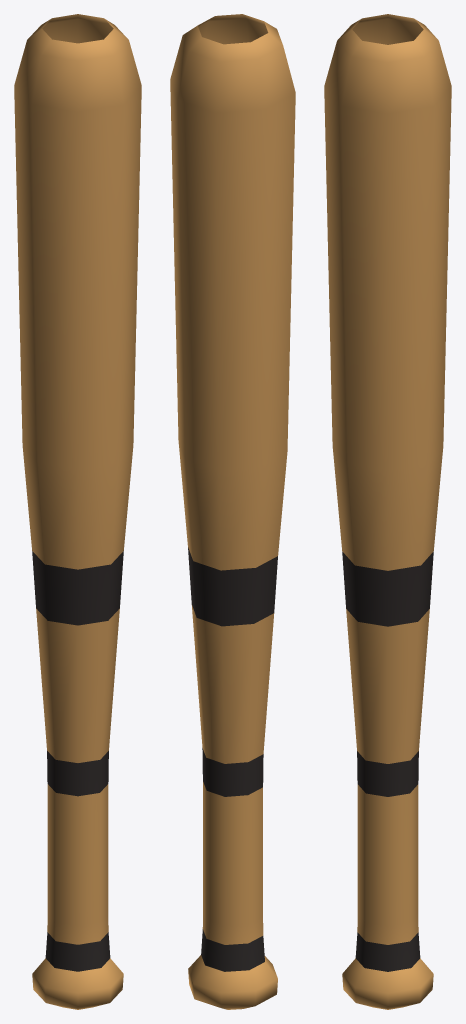
File: Bat.fbx
3 views of the same model, side by side, from view 1: azimuth 90°, elevation 25°; view 2: azimuth 210°, elevation 25°; view 3: azimuth 270°, elevation 25° (orthographic).
Visible parts, largest first — view 1: Bat; view 2: Bat; view 3: Bat.
Part boxes in pixels (x1,y1,x2,y2): Bat: (14,14,141,1009); Bat: (170,14,295,1009); Bat: (324,14,451,1009).
Bounding box in the file's own units: 10.65 × 10.65 × 89.59.
